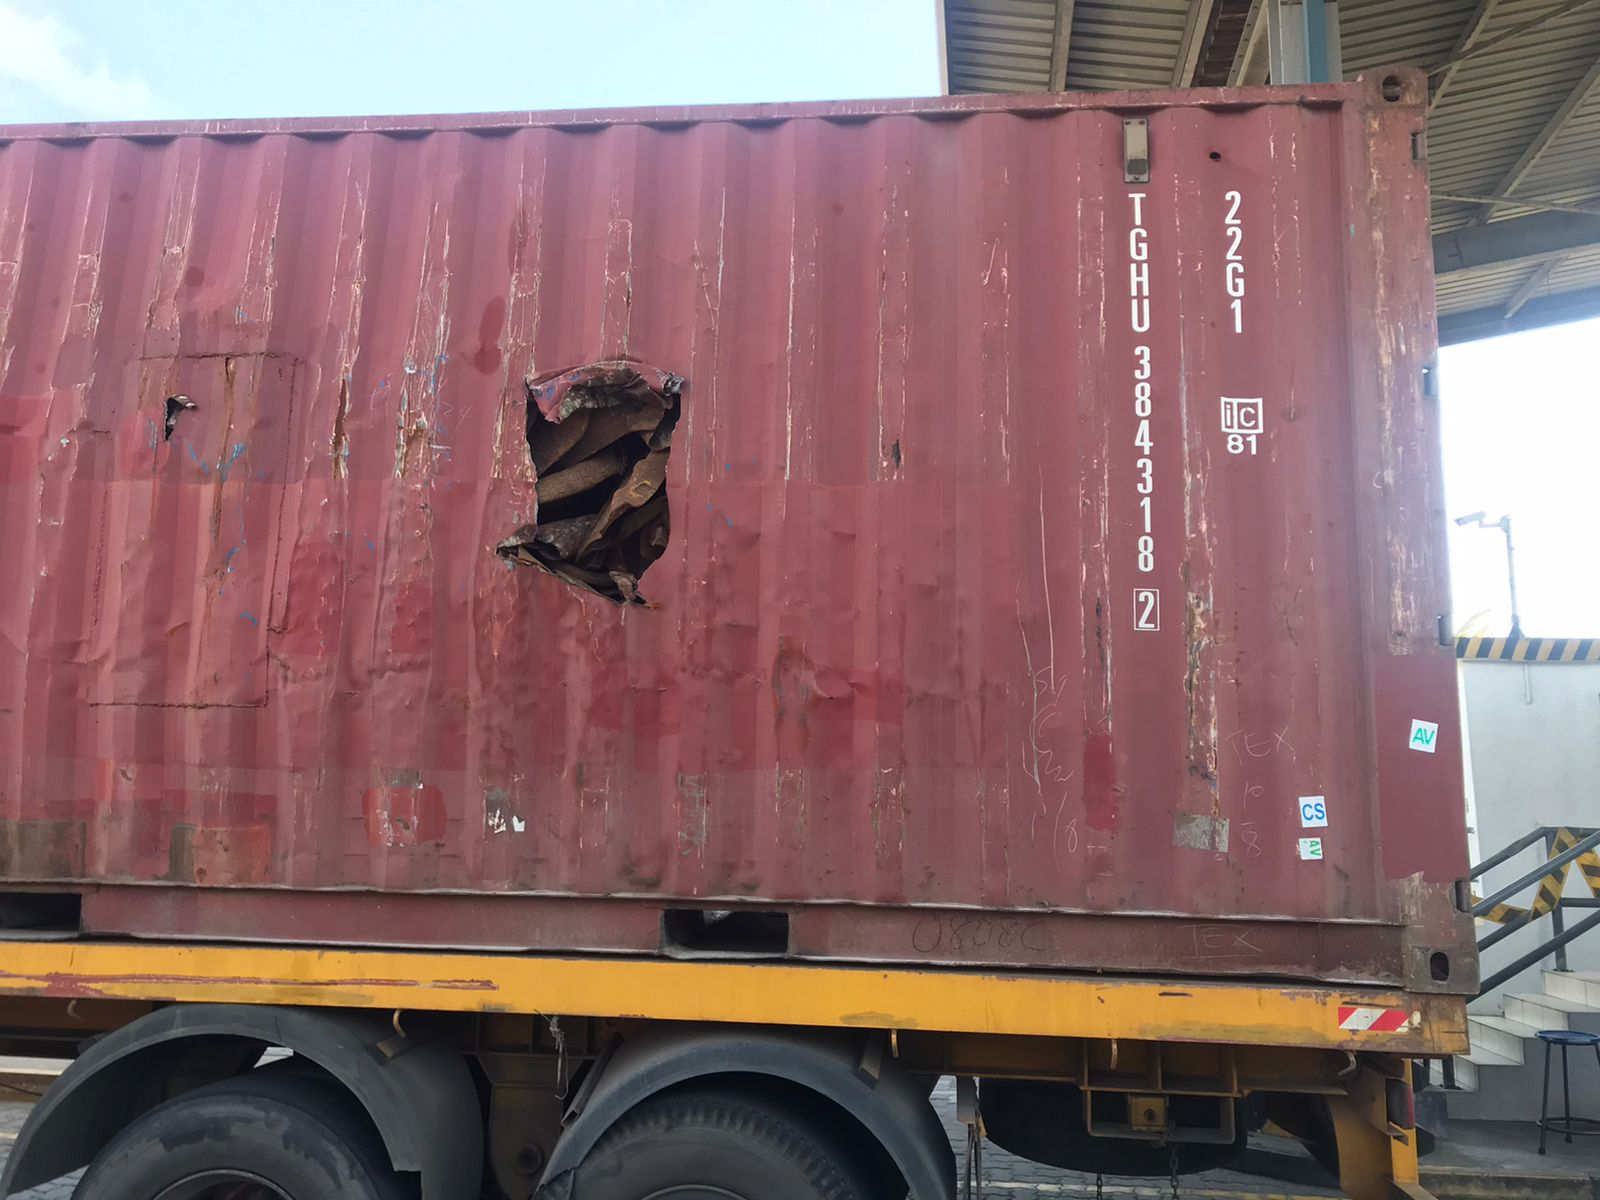cut: (494, 344, 731, 638), (166, 376, 207, 439)
dented: (81, 556, 931, 756)
